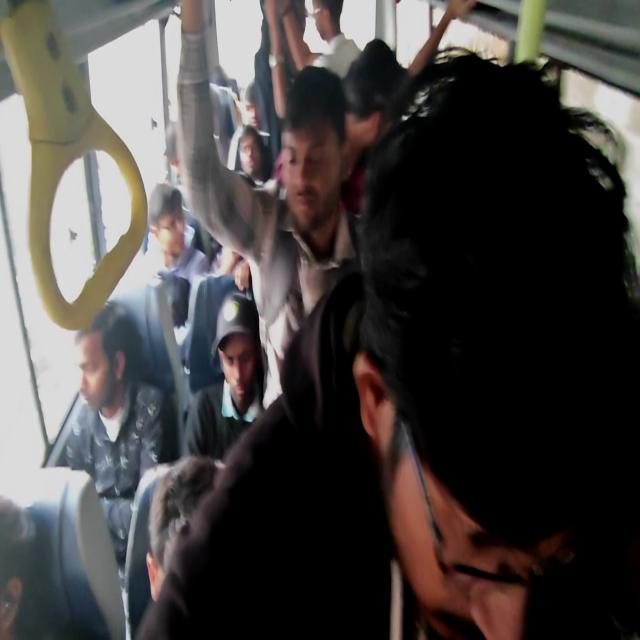person: (7, 0, 637, 638), (351, 52, 639, 638), (134, 271, 397, 638), (176, 0, 365, 408), (64, 301, 175, 586), (115, 182, 219, 395), (182, 290, 267, 462), (145, 454, 222, 602), (146, 182, 210, 286), (238, 124, 270, 184)
